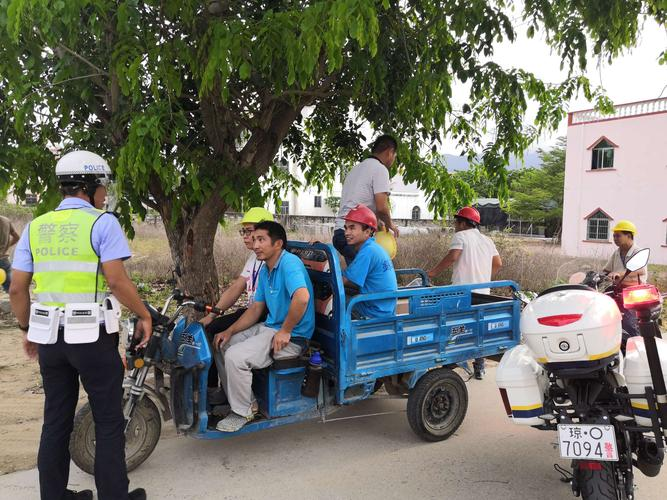driver: (219, 207, 265, 313)
overloading: (89, 127, 548, 477)
passenger: (242, 231, 314, 425), (338, 206, 391, 320), (345, 133, 409, 225), (447, 200, 491, 316)
